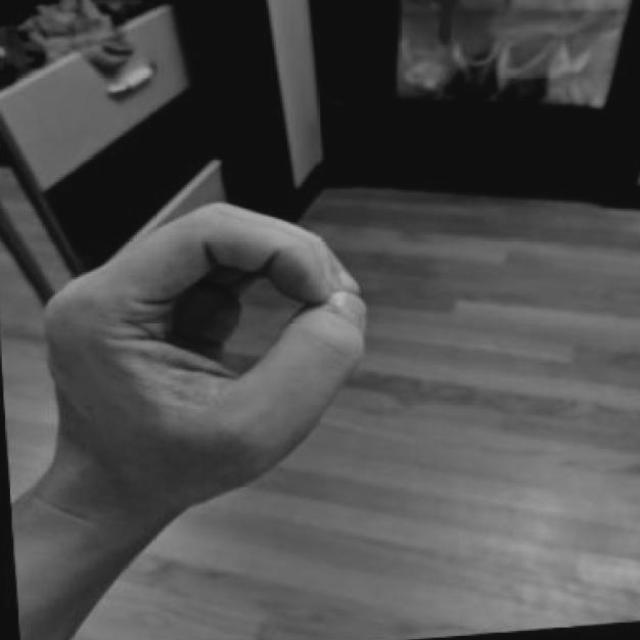O: (21, 187, 371, 500)
